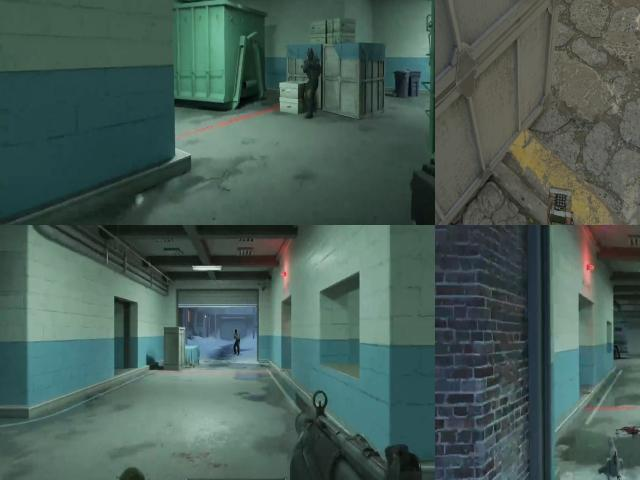Bomb: (540, 175, 584, 225)
CT: (299, 41, 325, 112)
CT-Head: (306, 46, 315, 64)
T: (229, 324, 244, 359)
T-Head: (233, 328, 239, 337)
